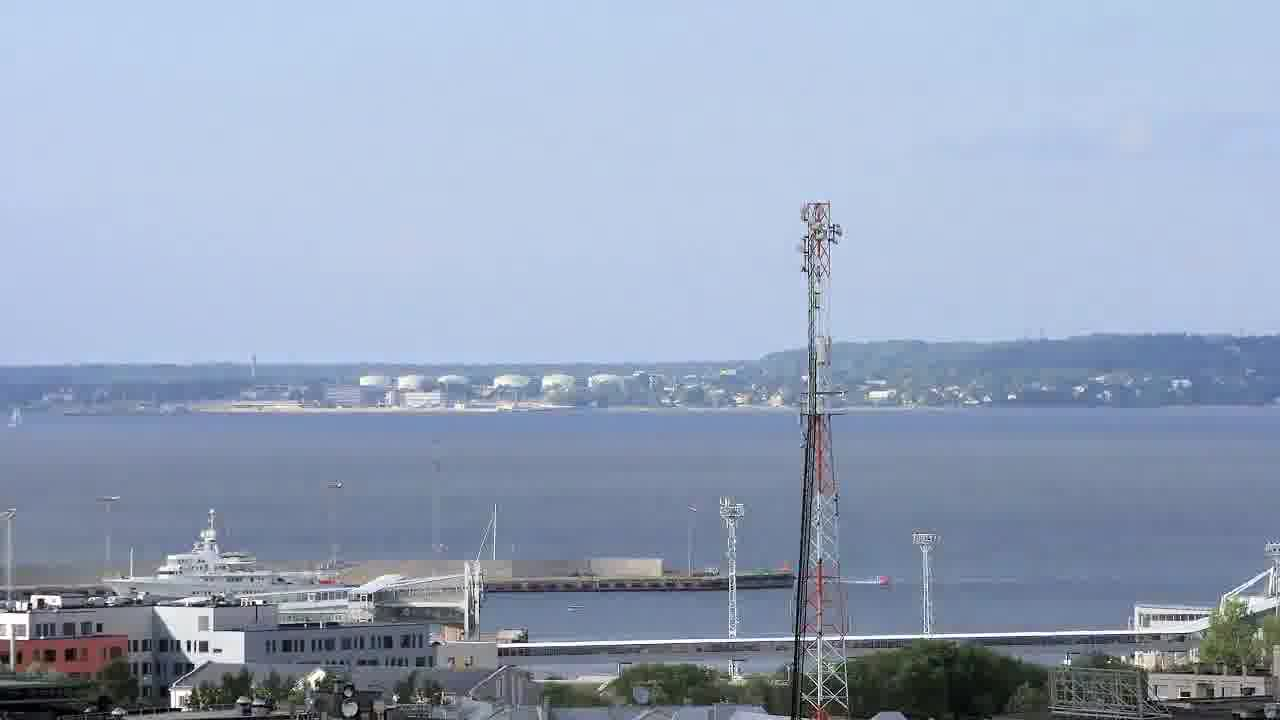type-3: (88, 507, 346, 605)
type-4: (857, 562, 906, 598)
